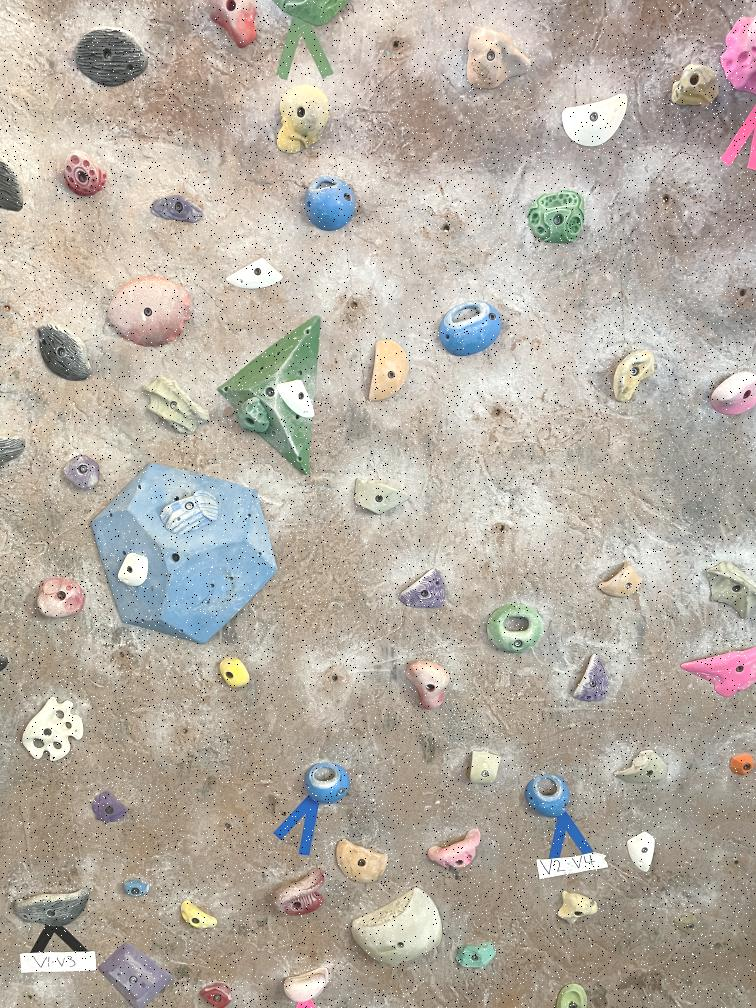Crimp: (558, 91, 635, 155), (224, 253, 291, 295), (330, 838, 391, 880), (398, 569, 453, 609), (574, 652, 610, 706), (149, 193, 209, 225), (280, 380, 319, 423), (115, 547, 154, 587), (628, 833, 657, 874)
Edges: (362, 338, 412, 405)
Foothold: (93, 790, 130, 822), (728, 749, 754, 777), (675, 914, 704, 938), (125, 875, 149, 900)
Hand-holds: (21, 697, 87, 763)
Jug: (105, 277, 195, 341), (458, 26, 538, 88), (269, 85, 343, 152), (74, 29, 152, 87), (14, 881, 94, 936), (394, 654, 459, 718), (35, 320, 99, 384), (264, 868, 327, 919), (609, 346, 658, 408), (33, 574, 93, 624), (665, 62, 721, 110), (427, 829, 485, 874), (58, 148, 108, 200), (708, 365, 756, 416), (279, 968, 339, 1002), (599, 562, 646, 598), (558, 889, 600, 927), (179, 896, 220, 932), (220, 657, 250, 690)
Pinch: (136, 376, 214, 432), (609, 742, 673, 791), (352, 477, 414, 521), (157, 493, 229, 530), (57, 454, 102, 495), (469, 747, 502, 790), (455, 942, 503, 968)
Pocket: (437, 297, 503, 355), (303, 174, 358, 232), (488, 606, 544, 653), (303, 758, 351, 808), (524, 769, 571, 820)
Sloper: (347, 890, 448, 962), (526, 189, 588, 249)
